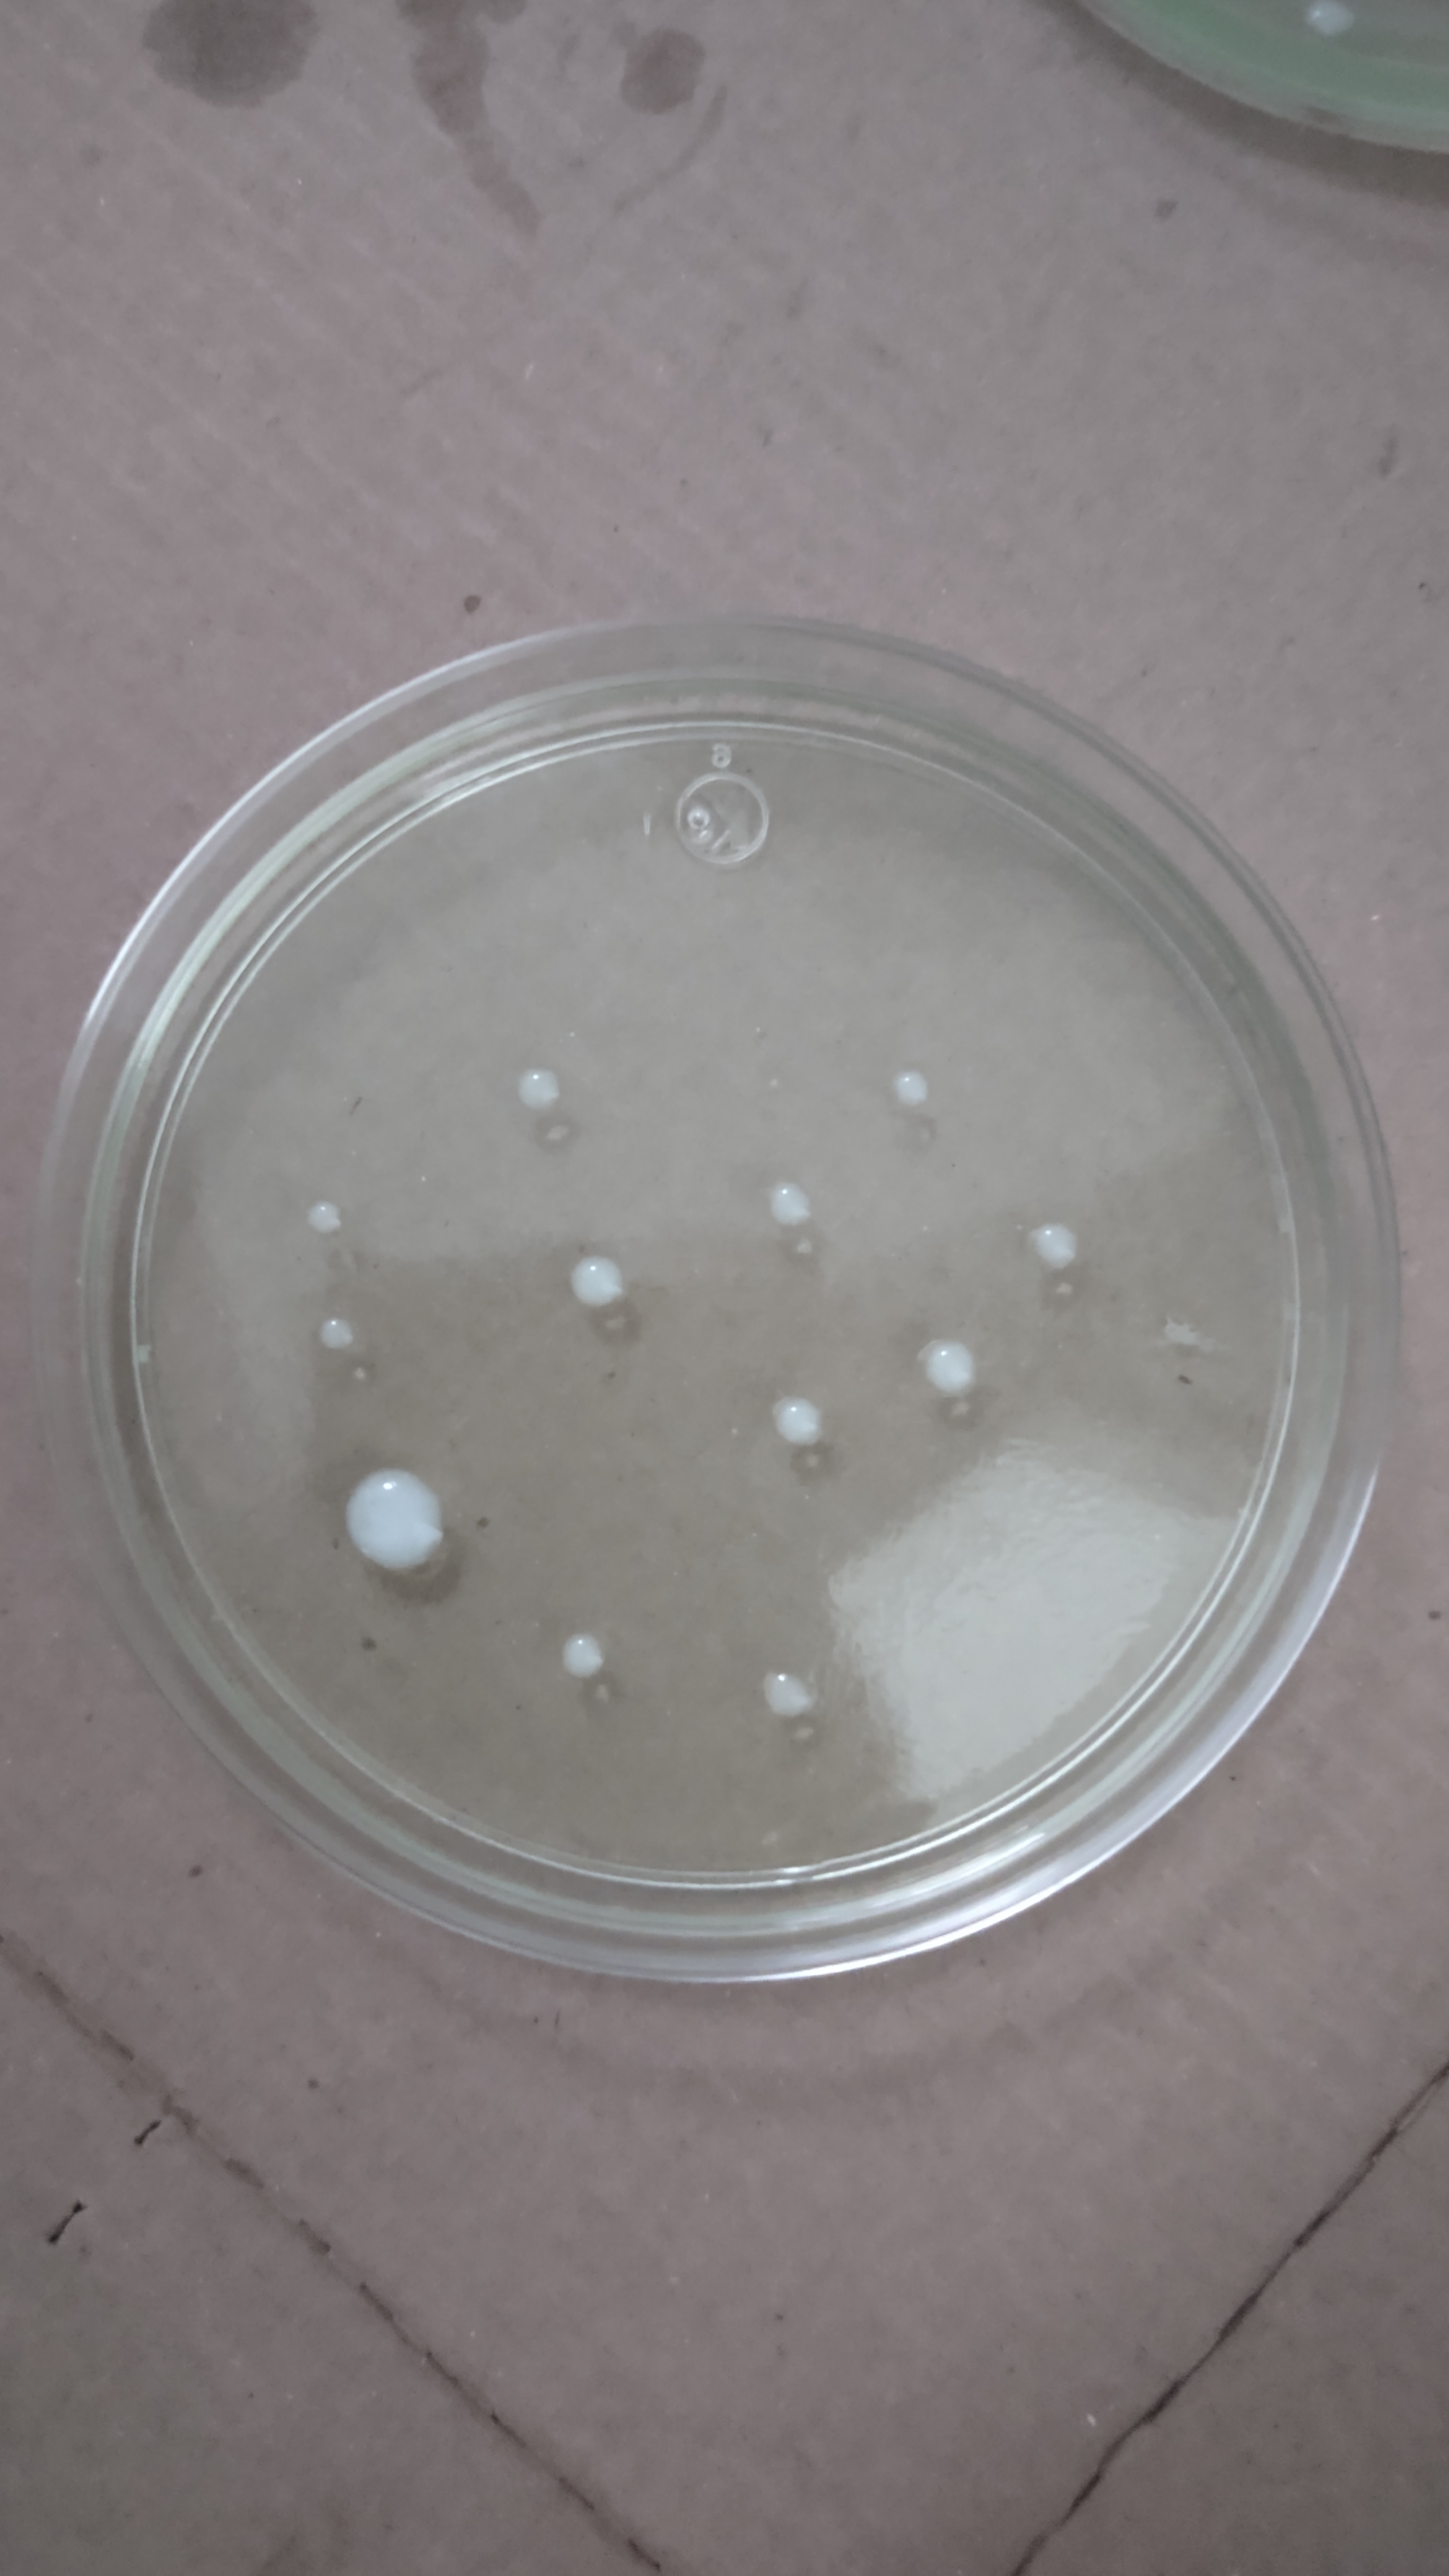Colonia: (343, 1458, 446, 1566), (916, 1332, 987, 1396), (761, 1665, 821, 1721), (570, 1253, 630, 1304), (1028, 1217, 1083, 1270), (770, 1394, 824, 1447), (556, 1628, 610, 1679), (770, 1175, 819, 1230), (297, 1196, 347, 1235), (517, 1070, 568, 1108), (317, 1307, 359, 1350), (893, 1074, 929, 1109)
